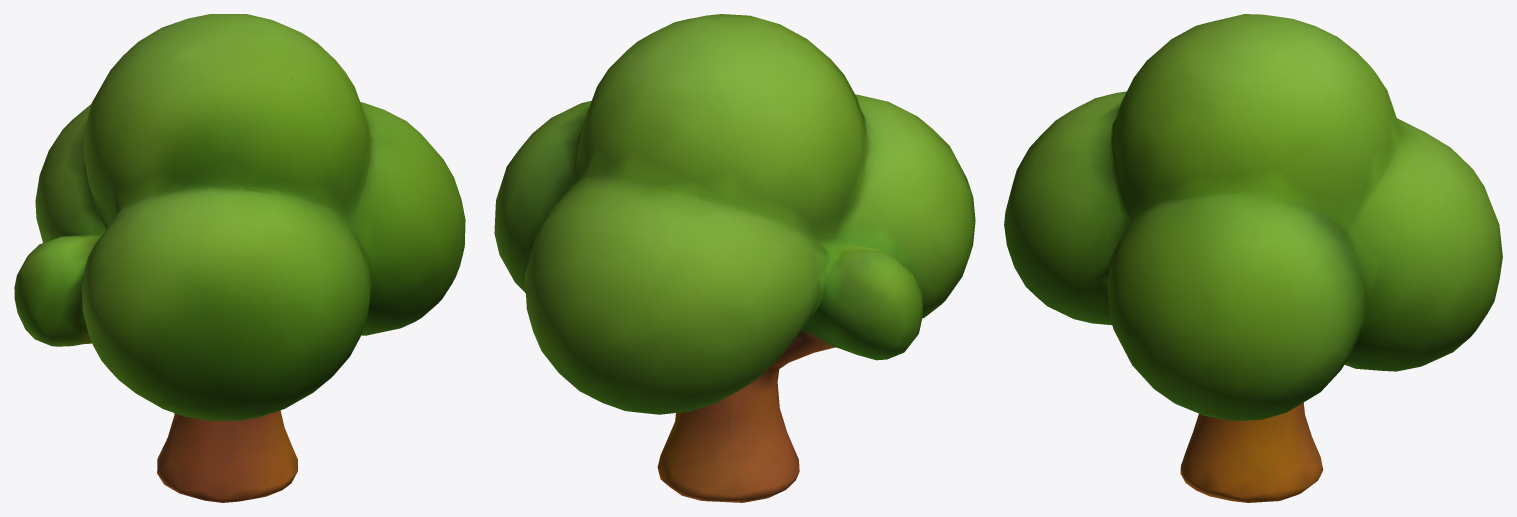
The model's file is tree-broadleaf.glb.
3 views of the same model, side by side, from view 1: azimuth 30°, elevation 25°; view 2: azimuth 150°, elevation 25°; view 3: azimuth 270°, elevation 25° (orthographic).
Visible parts, largest first — view 1: tree-broadleaf; view 2: tree-broadleaf; view 3: tree-broadleaf.
Part boxes in pixels (box(x1,y1,x2,y2)): tree-broadleaf: box(14, 14, 465, 502); tree-broadleaf: box(494, 14, 975, 502); tree-broadleaf: box(1004, 14, 1502, 502).
Size of the model in its own units: 0.964 by 1 by 0.9965.
Materials: 1 (1 with a texture image).
